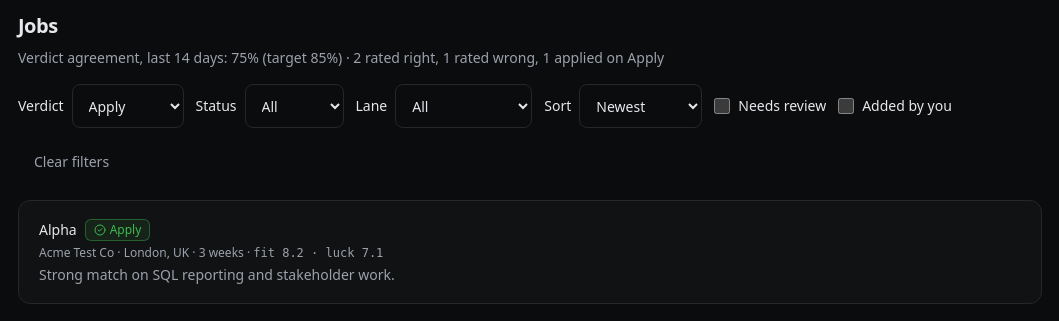
Scenario: JobsPage › shows only jobs added from Lookup when asked, standing alone like Needs review
This screenshot has width=1059, height=321.
Expected: the text "Alpha" is shown, [39, 220, 77, 240]
Click the checkbox labelled "Added by you": (846, 106) [838, 98, 854, 114]
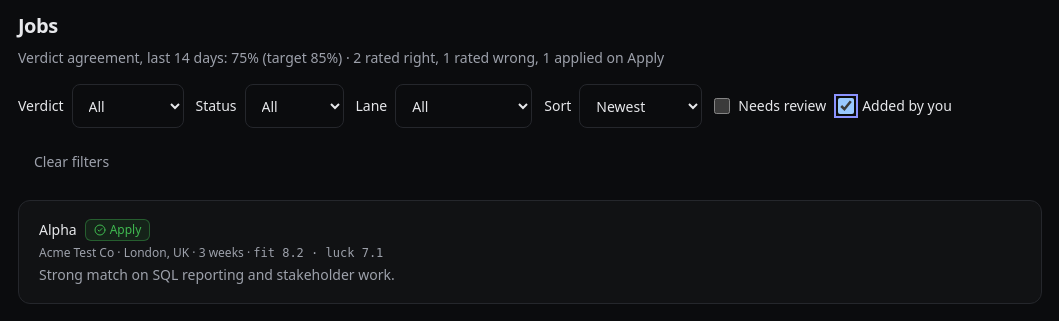
Expected: the dropdown labelled "Status" is disabled, [244, 84, 344, 128]
Expected: the dropdown labelled "Verdict" is disabled, [72, 84, 184, 128]
